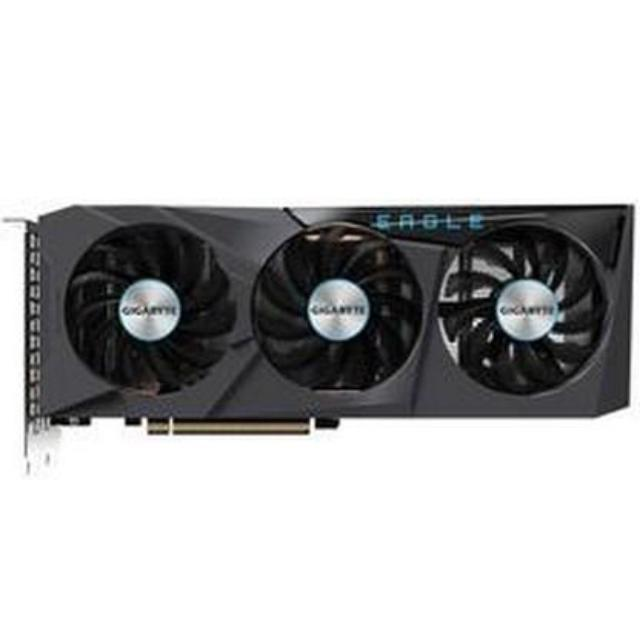GPU: (29, 190, 638, 442)
